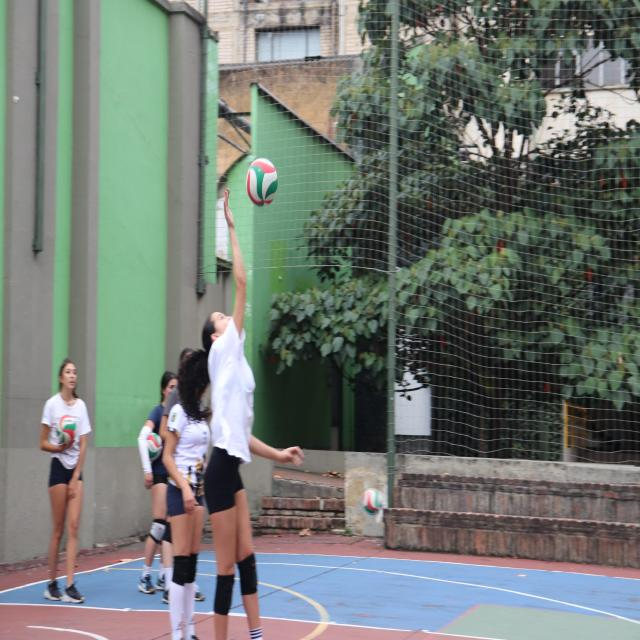volleyball: (247, 158, 278, 208), (55, 413, 77, 447), (362, 488, 383, 514), (146, 433, 163, 461)
